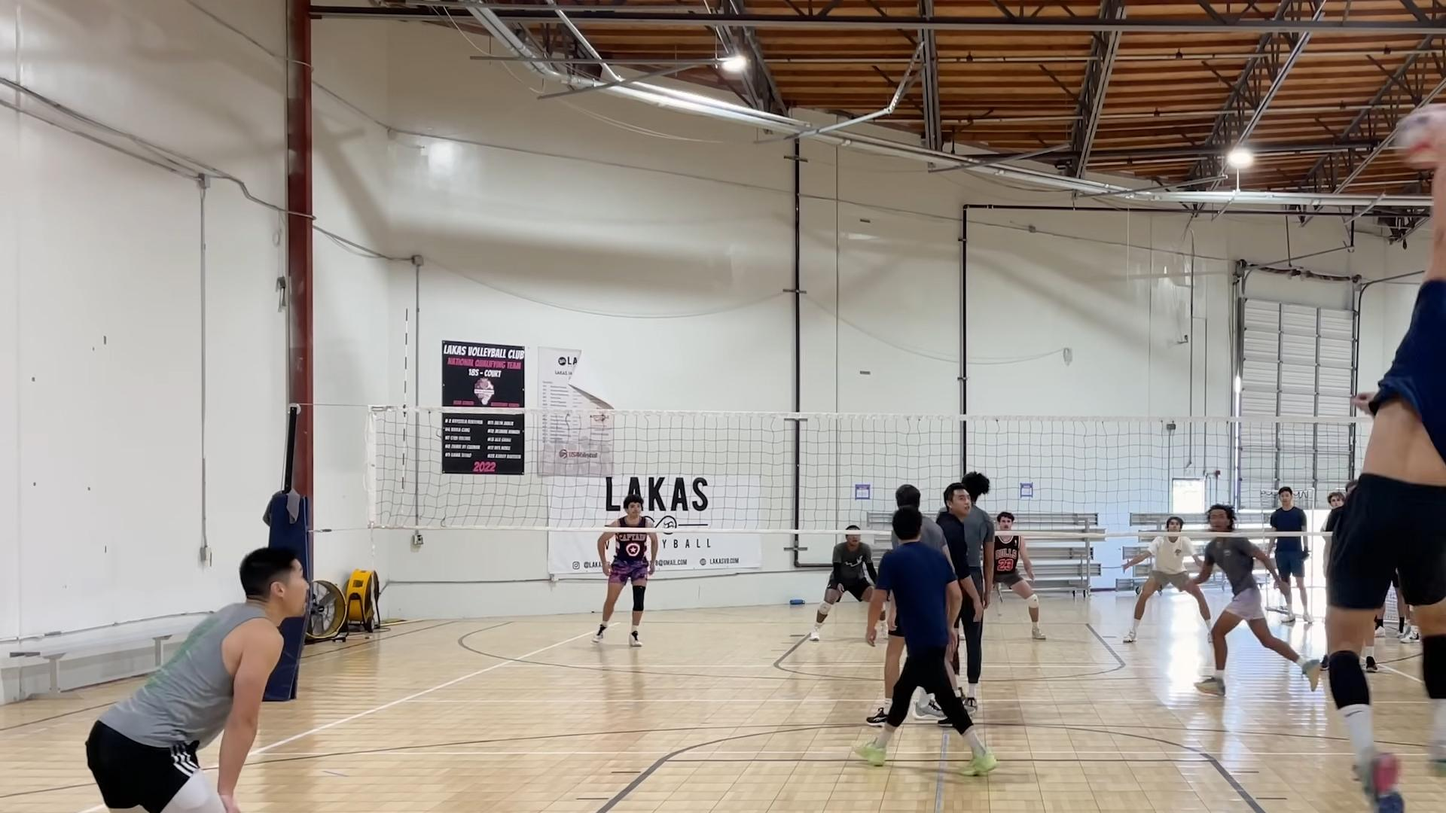battuta: (1326, 139, 1446, 813)
